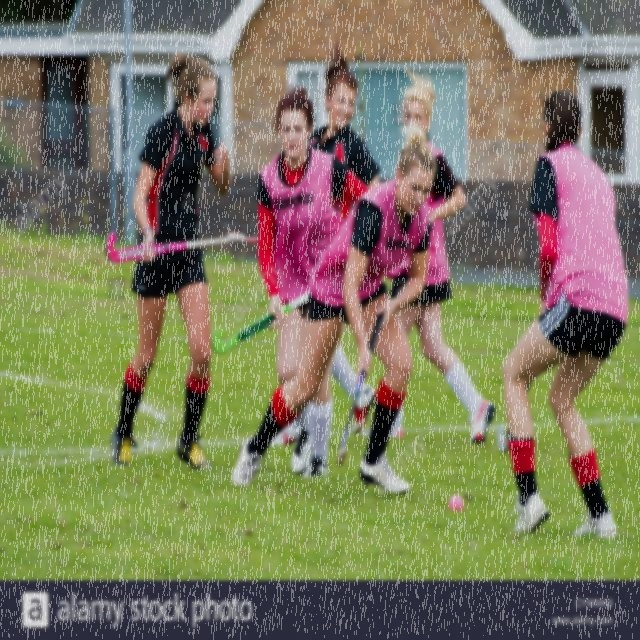pessoa: (230, 121, 438, 496), (498, 85, 634, 547), (100, 47, 234, 475), (254, 84, 374, 481), (391, 80, 498, 443), (307, 36, 382, 190)
